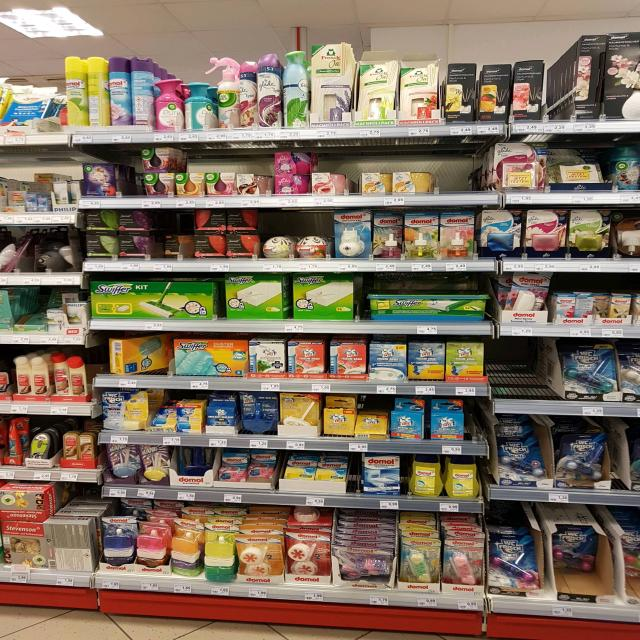void: (500, 342, 548, 413), (438, 143, 487, 209)
